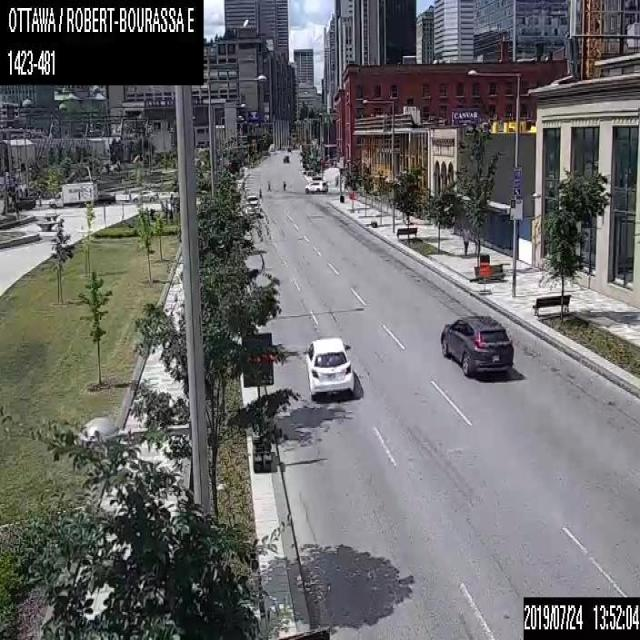construction: (241, 331, 273, 471), (478, 260, 489, 292), (348, 190, 356, 211)
pedestrian: (461, 223, 468, 256), (266, 180, 270, 191), (282, 179, 285, 192)
vehicle: (440, 314, 513, 374), (304, 334, 354, 398), (48, 180, 97, 207), (130, 188, 156, 201), (304, 179, 327, 193), (97, 193, 115, 205), (283, 155, 288, 161), (287, 146, 290, 151)
